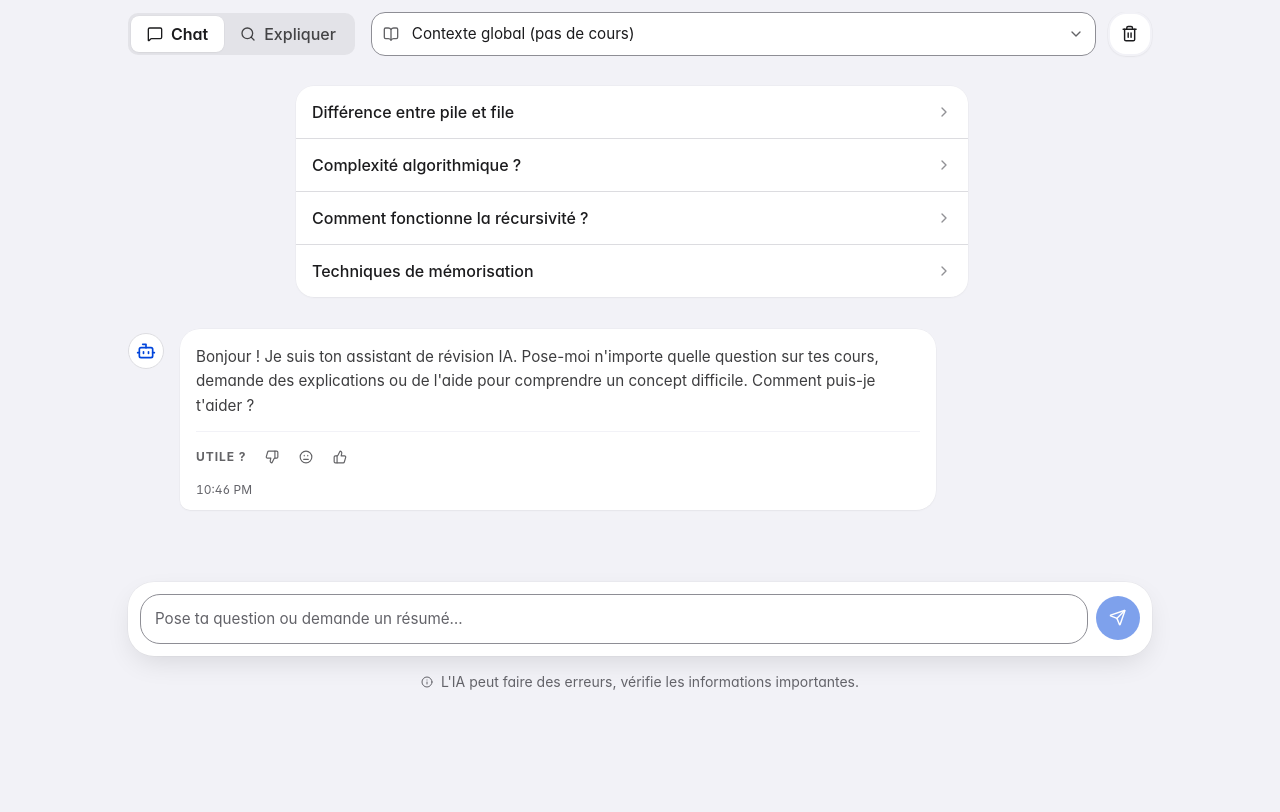
Test: Assistant IA › une suggestion remplit le champ de saisie
(page scrolled)
Click the button "Comment fonctionne la récursivité ?": (450, 218) top-left (296, 192), bottom-right (968, 244)
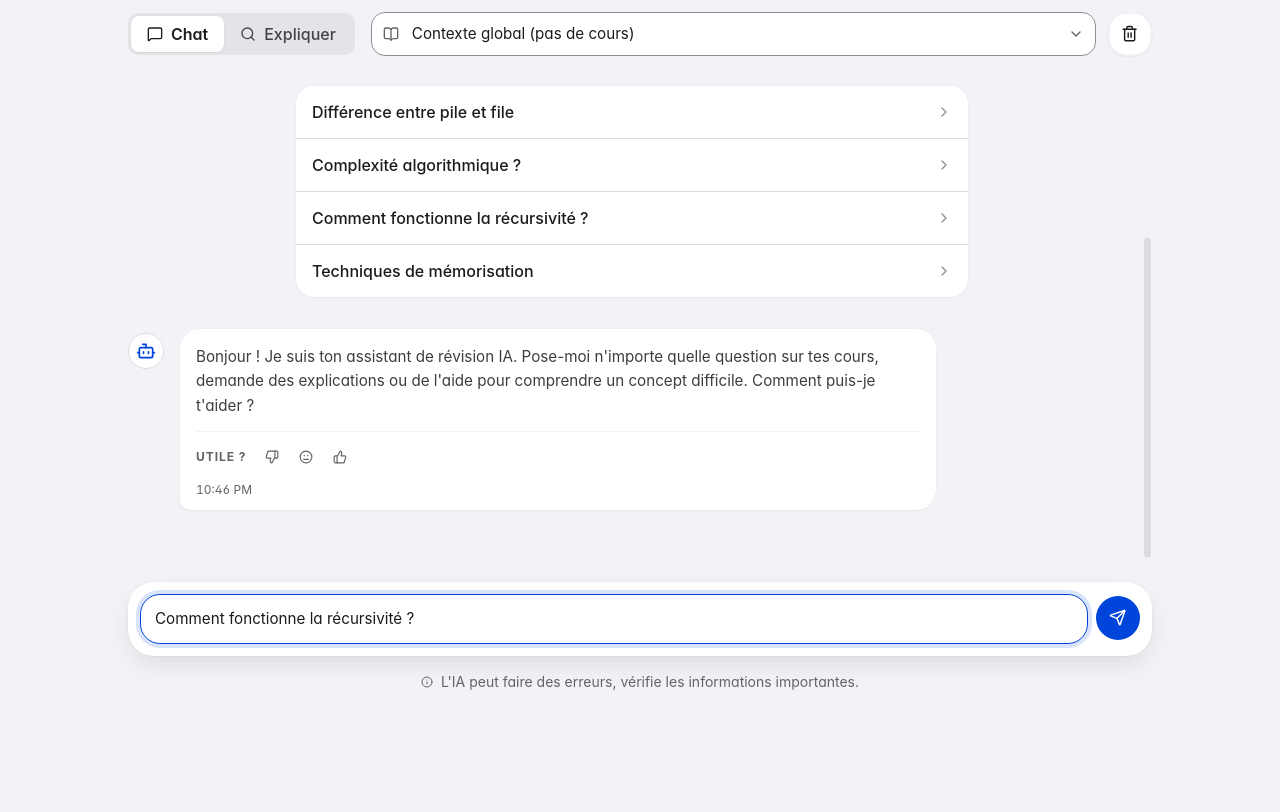
Expected: the text box with placeholder "Pose ta question ou demande un résumé…" holds "Comment fonctionne la récursivité ?", top-left (140, 594), bottom-right (1088, 644)
